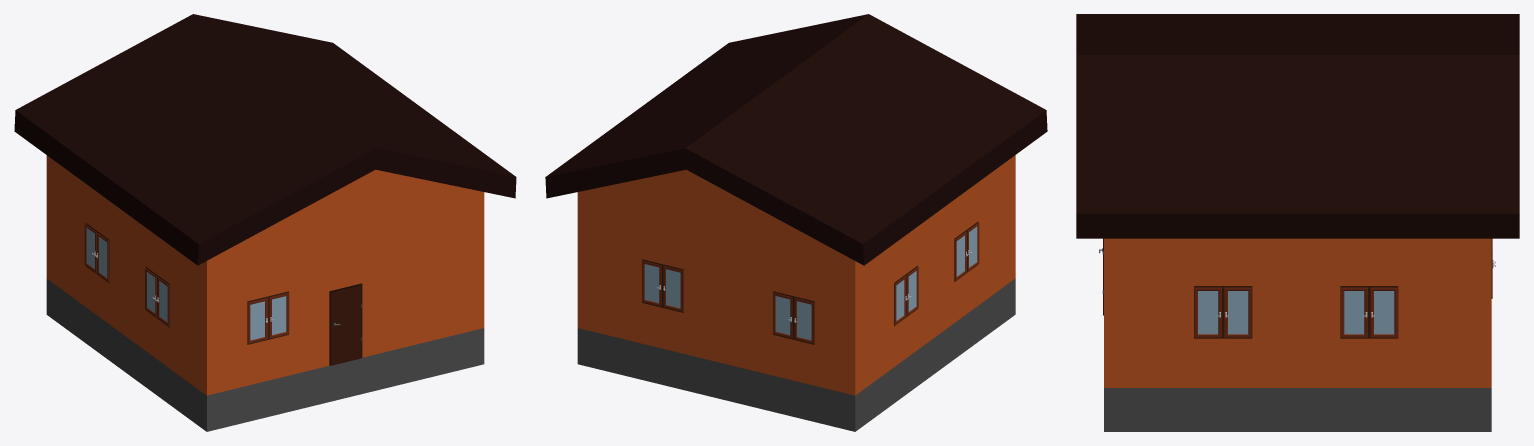
Rendered from home.obj.
The picture shows the model from 3 angles, left to right: view 1: azimuth 30°, elevation 25°; view 2: azimuth 150°, elevation 25°; view 3: azimuth 270°, elevation 25°; orthographic projection. The views are drawn at different scales.
Parts seen in each view (by area): view 1: Cube.023, Cube.001, Cube, Cylinder.001, Cube.022, Cube.021, Cube.016, Cube.018, Cube.019, Cube.015; view 2: Cube.023, Cube.001, Cube, Cube.010, Cube.013, Cube.009, Cube.012, Cube.018, Cube.016, Cube.019, Cube.015; view 3: Cube.023, Cube.001, Cube, Cube.007, Cube.003, Cube.005, Cube.006, Cube.004, Cube.002.
Boxes of the visible parts, x1,y1,x2,y2 form: Cube.023: [14, 14, 516, 265]; Cube.001: [46, 155, 484, 395]; Cube: [46, 279, 484, 431]; Cylinder.001: [330, 285, 361, 365]; Cube.022: [269, 292, 289, 338]; Cube.021: [248, 298, 267, 343]; Cube.016: [156, 277, 169, 326]; Cube.018: [84, 224, 96, 273]; Cube.019: [95, 233, 108, 282]; Cube.015: [145, 268, 156, 317]; Cube.023: [545, 14, 1047, 265]; Cube.001: [577, 155, 1015, 395]; Cube: [577, 278, 1015, 431]; Cube.010: [794, 298, 814, 343]; Cube.013: [663, 266, 683, 311]; Cube.009: [773, 292, 792, 338]; Cube.012: [642, 260, 661, 306]; Cube.018: [894, 276, 907, 324]; Cube.016: [967, 222, 979, 271]; Cube.019: [906, 267, 918, 316]; Cube.015: [955, 231, 968, 280]; Cube.023: [1076, 14, 1519, 238]; Cube.001: [1104, 238, 1491, 387]; Cube: [1104, 388, 1491, 431]; Cube.007: [1224, 287, 1251, 337]; Cube.003: [1340, 287, 1367, 337]; Cube.005: [1370, 287, 1397, 337]; Cube.006: [1194, 287, 1221, 337]; Cube.004: [1194, 286, 1252, 338]; Cube.002: [1340, 286, 1398, 338].
Bounding box in the file's own units: 9.18 × 6.98 × 9.15.
